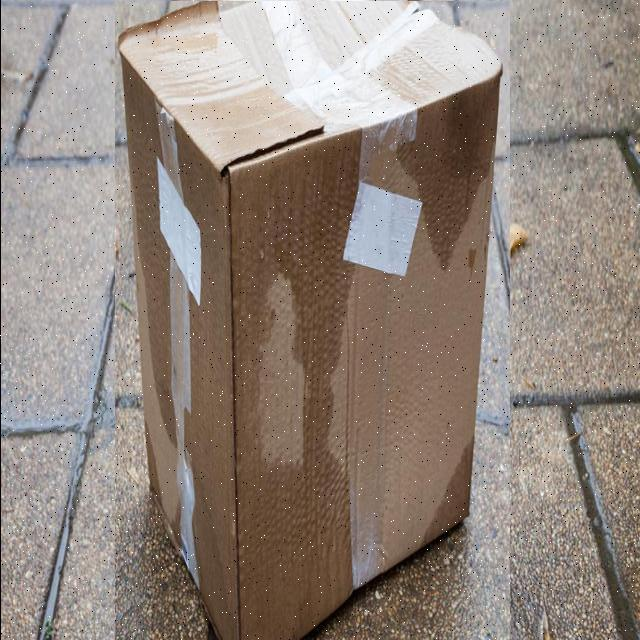defect: (114, 1, 509, 640)
